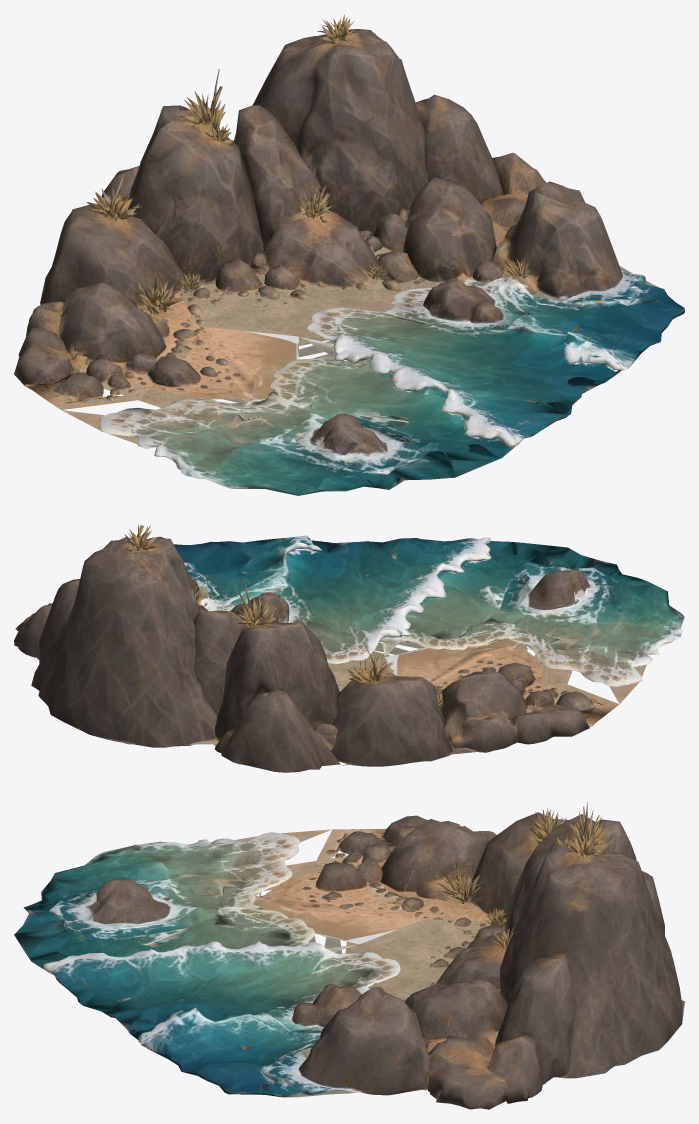
Rendered from coast.glb.
3 renders of one model, top to bottom at view 1: azimuth 30°, elevation 25°; view 2: azimuth 150°, elevation 25°; view 3: azimuth 270°, elevation 25°, orthographic. The views are drawn at different scales.
Size of the model in its own units: 0.9434 by 0.2983 by 0.9526.
Materials: 1 (1 with a texture image).
